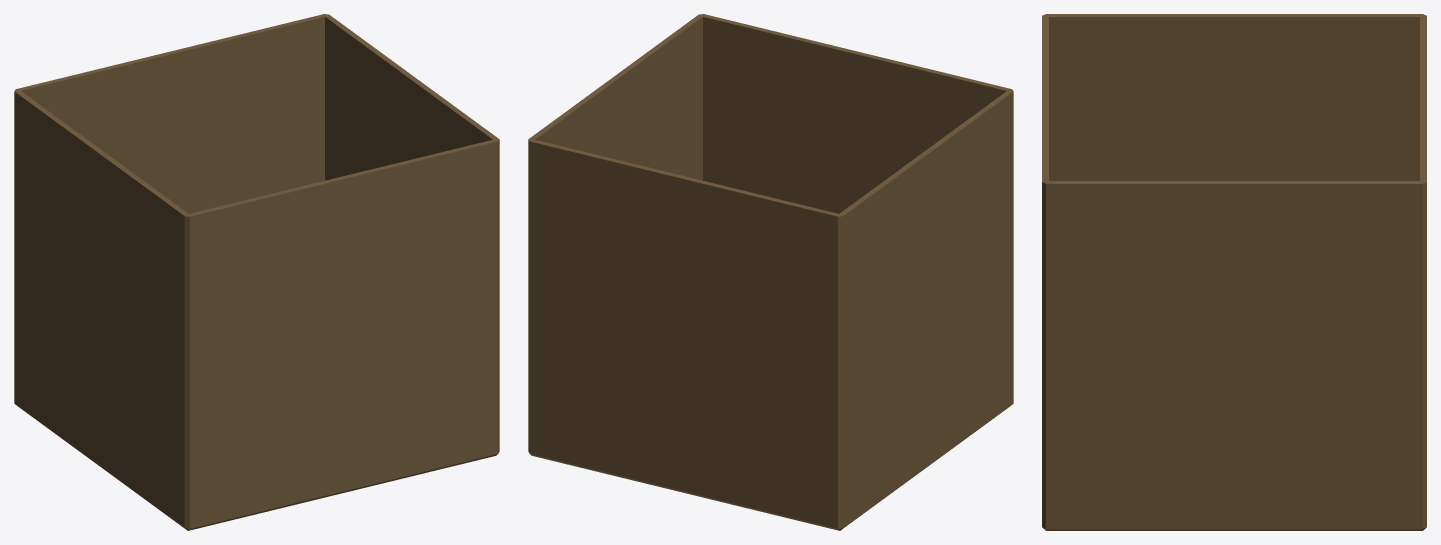
3 views of the same model, side by side, from view 1: azimuth 30°, elevation 25°; view 2: azimuth 150°, elevation 25°; view 3: azimuth 270°, elevation 25° (orthographic). The views are drawn at different scales.
Parts seen in each view (by area): view 1: box; view 2: box; view 3: box.
Boxes of the visible parts, <box> form: box: <box>14,14,499,530</box>; box: <box>528,14,1013,530</box>; box: <box>1042,14,1426,530</box>.
Size of the model in its own units: 29.24 by 28 by 28.
